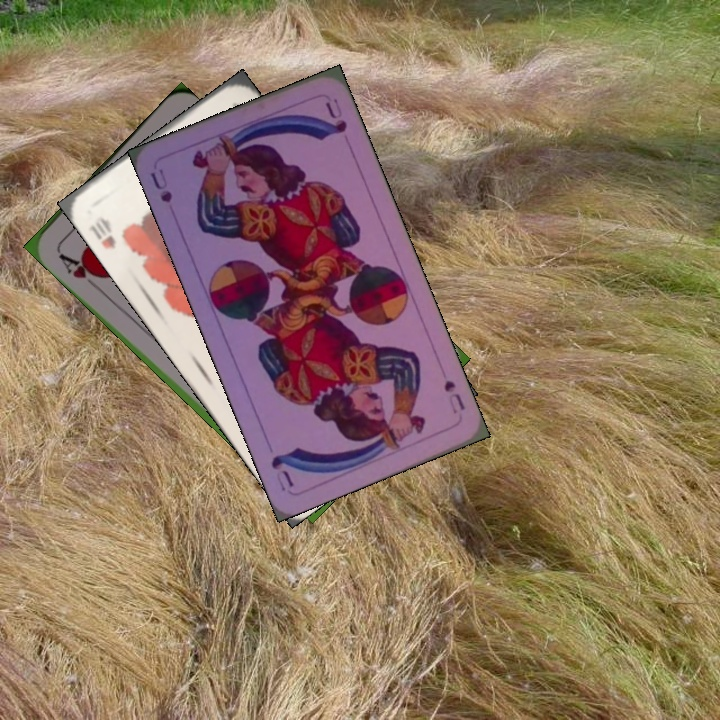H10: (84, 212, 119, 252)
HA: (54, 246, 106, 283)
SU: (146, 164, 175, 206), (440, 376, 468, 416)
